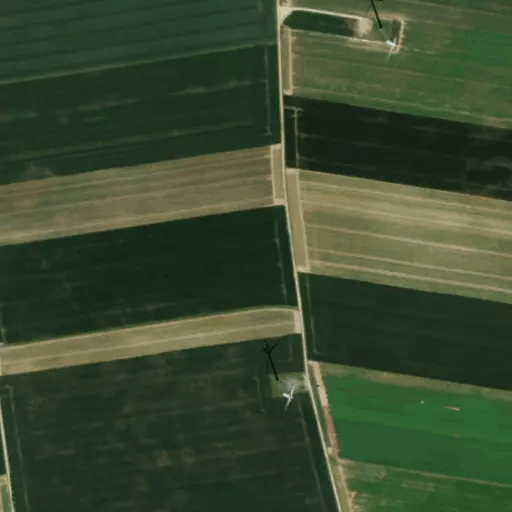wt: (255, 336, 303, 413), (349, 1, 409, 59)
